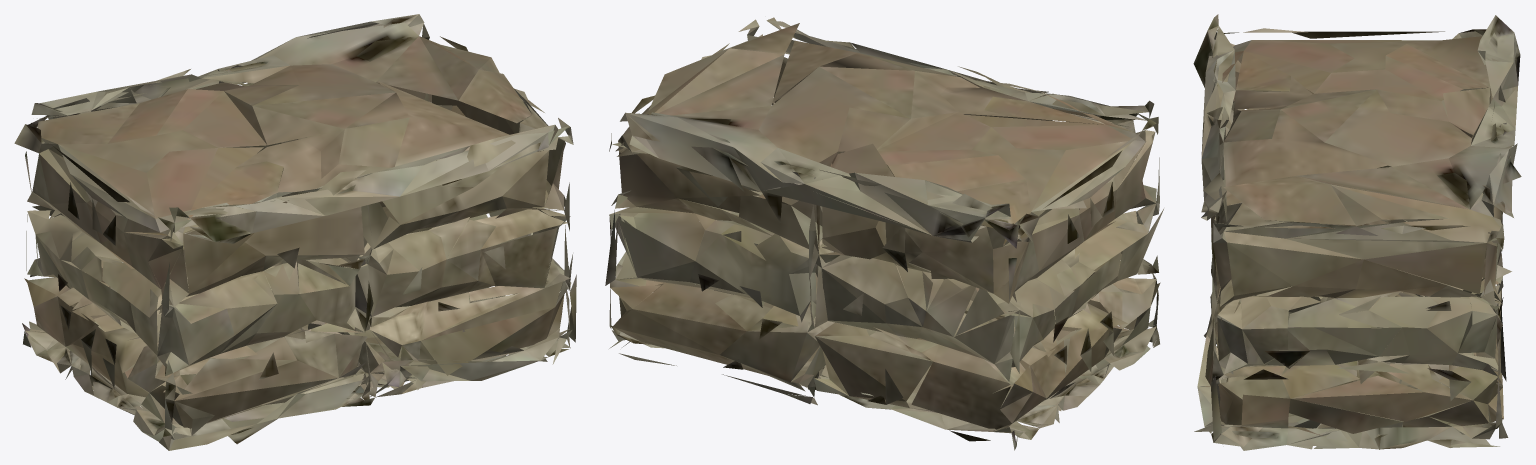
Rendered from hesco.glb.
3 renders of one model, left to right at view 1: azimuth 30°, elevation 25°; view 2: azimuth 150°, elevation 25°; view 3: azimuth 270°, elevation 25°, orthographic.
Visible parts, largest first — view 1: Mesh_0; view 2: Mesh_0; view 3: Mesh_0.
Boxes of the visible parts, x1,y1,x2,y2 form: Mesh_0: [14, 14, 576, 450]; Mesh_0: [605, 17, 1163, 450]; Mesh_0: [1193, 14, 1521, 450].
Bounding box in the file's own units: 1.93 × 1.13 × 1.31.
1 material, 1 textured.
